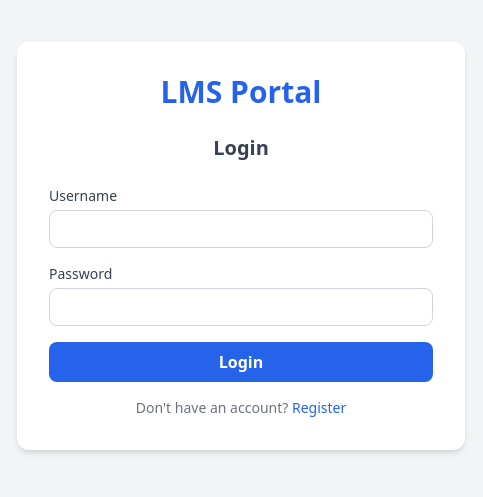
Test case: Login Page › shows error on invalid credentials
The width and height of the screenshot is (483, 497).
Step 1. Type "wronguser" into the field labelled "Username" → x=241, y=229, box left=49, top=210, right=433, bottom=248
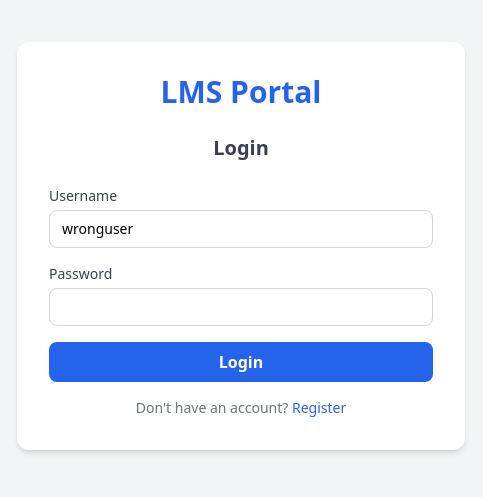
Step 2. Type "wrongpass" into the password field labelled "Password" → x=241, y=307, box left=49, top=288, right=433, bottom=326
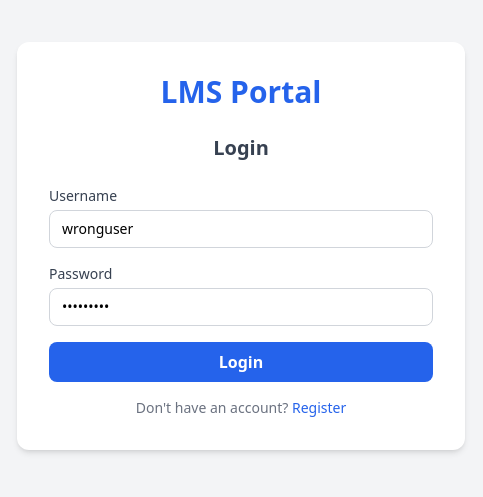
Step 3. Click the button "Login" → x=241, y=362, box left=49, top=342, right=433, bottom=382
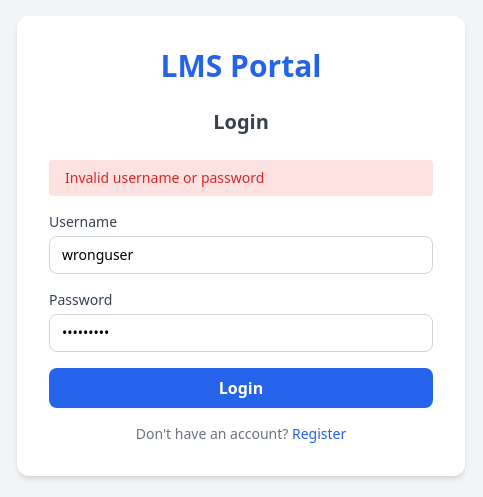
Expected: the text "Invalid username or password" is shown, left=49, top=160, right=433, bottom=196
